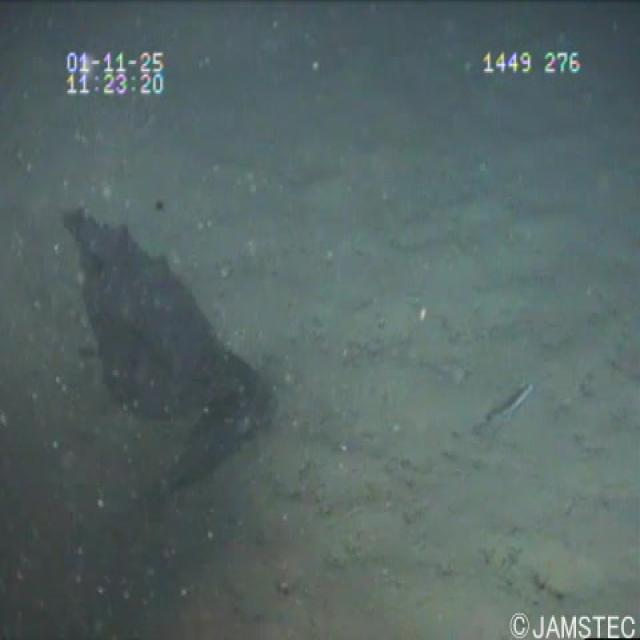plastic: (55, 183, 266, 423)
